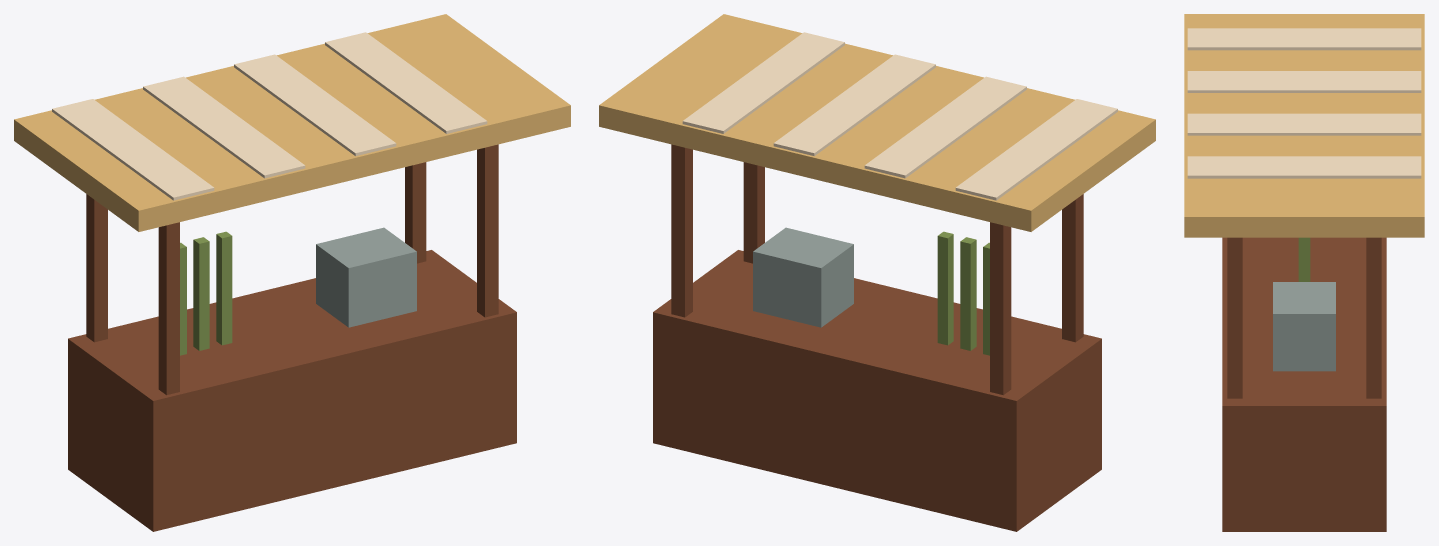
The model's file is juice.glb.
3 views of the same model, side by side, from view 1: azimuth 30°, elevation 25°; view 2: azimuth 150°, elevation 25°; view 3: azimuth 270°, elevation 25° (orthographic). The views are drawn at different scales.
Visible parts, largest first — view 1: _MeshInstance3D_269, _MeshInstance3D_276, _MeshInstance3D_281, _MeshInstance3D_278, _MeshInstance3D_279, _MeshInstance3D_277, _MeshInstance3D_280, _MeshInstance3D_275, _MeshInstance3D_273, _MeshInstance3D_272, _MeshInstance3D_274, _MeshInstance3D_284 (+2 smaller); view 2: _MeshInstance3D_269, _MeshInstance3D_276, _MeshInstance3D_281, _MeshInstance3D_278, _MeshInstance3D_279, _MeshInstance3D_277, _MeshInstance3D_280, _MeshInstance3D_274, _MeshInstance3D_272, _MeshInstance3D_273, _MeshInstance3D_275, _MeshInstance3D_284 (+2 smaller); view 3: _MeshInstance3D_269, _MeshInstance3D_276, _MeshInstance3D_281, _MeshInstance3D_280, _MeshInstance3D_277, _MeshInstance3D_279, _MeshInstance3D_278, _MeshInstance3D_274, _MeshInstance3D_275, _MeshInstance3D_284.
Boxes of the visible parts, <box> form: _MeshInstance3D_269: <box>68,250,516,531</box>; _MeshInstance3D_276: <box>14,14,570,231</box>; _MeshInstance3D_281: <box>316,227,416,327</box>; _MeshInstance3D_278: <box>143,76,305,178</box>; _MeshInstance3D_279: <box>234,54,396,156</box>; _MeshInstance3D_277: <box>52,99,214,200</box>; _MeshInstance3D_280: <box>325,32,487,133</box>; _MeshInstance3D_275: <box>477,144,498,317</box>; _MeshInstance3D_273: <box>158,222,179,395</box>; _MeshInstance3D_272: <box>86,194,107,342</box>; _MeshInstance3D_274: <box>405,162,426,263</box>; _MeshInstance3D_284: <box>216,231,232,345</box>; _MeshInstance3D_269: <box>653,250,1101,531</box>; _MeshInstance3D_276: <box>599,14,1155,231</box>; _MeshInstance3D_281: <box>753,227,853,327</box>; _MeshInstance3D_278: <box>864,76,1026,178</box>; _MeshInstance3D_279: <box>773,54,935,156</box>; _MeshInstance3D_277: <box>955,99,1117,200</box>; _MeshInstance3D_280: <box>682,32,844,133</box>; _MeshInstance3D_274: <box>671,144,692,317</box>; _MeshInstance3D_272: <box>990,222,1011,395</box>; _MeshInstance3D_273: <box>1062,194,1083,342</box>; _MeshInstance3D_275: <box>743,162,764,263</box>; _MeshInstance3D_284: <box>937,231,953,345</box>; _MeshInstance3D_269: <box>1222,237,1386,531</box>; _MeshInstance3D_276: <box>1184,14,1424,237</box>; _MeshInstance3D_281: <box>1273,282,1335,371</box>; _MeshInstance3D_280: <box>1187,156,1421,178</box>; _MeshInstance3D_277: <box>1187,28,1421,50</box>; _MeshInstance3D_279: <box>1187,113,1421,135</box>; _MeshInstance3D_278: <box>1187,71,1421,92</box>; _MeshInstance3D_274: <box>1366,237,1381,398</box>; _MeshInstance3D_275: <box>1227,237,1242,398</box>; _MeshInstance3D_284: <box>1298,237,1310,281</box>.
Bounding box in the file's own units: 3.8 × 2.92 × 1.9.
